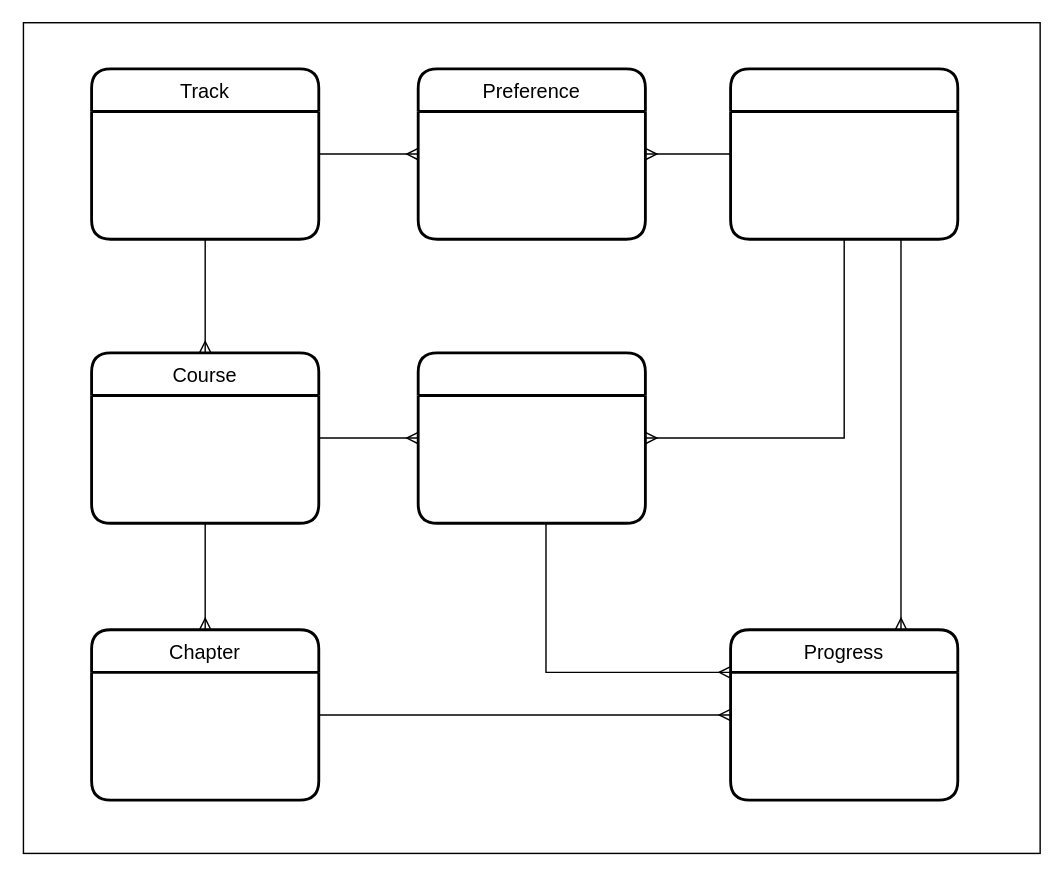
Some shapes in this 1064 by 876 pixel diagram are drawn without their labels. Here are the shapes that lost their labels. From the top down, the centre of each, then its label:
At (843,153): "Student".
At (531,437): "Enrollment".
